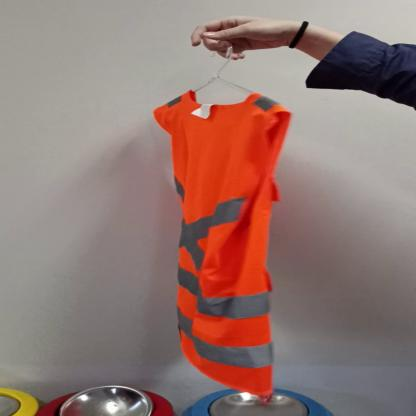colete: (148, 89, 283, 397)
